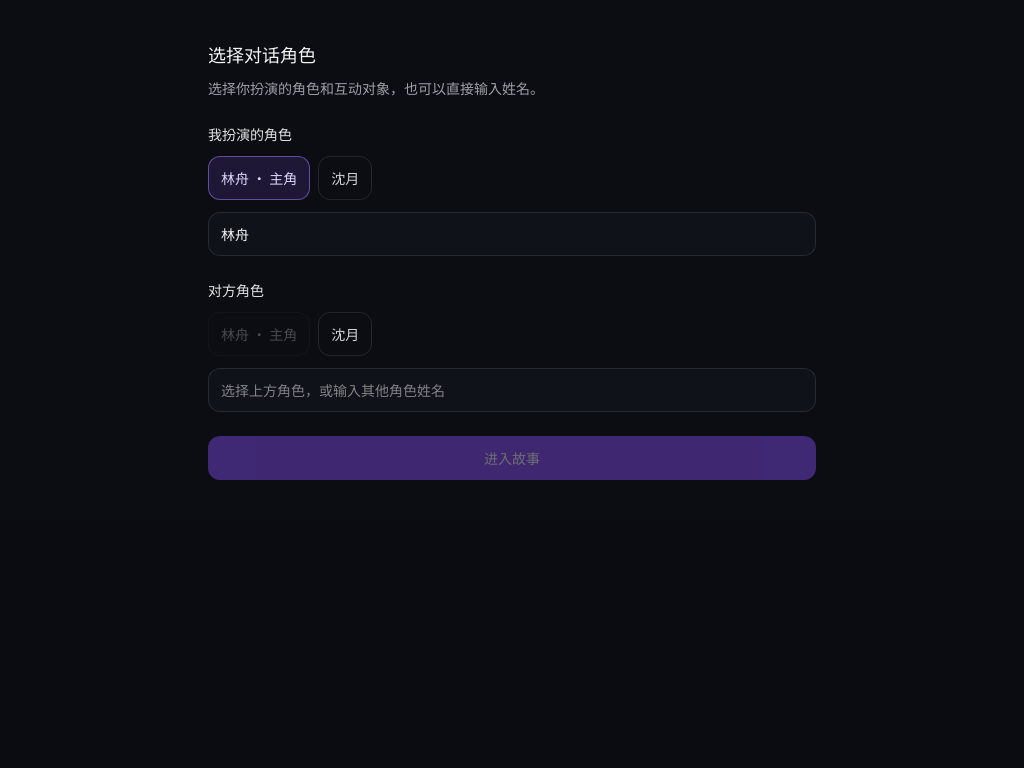
Test case: roleplay script view › offers the protagonist, chapter characters and custom names, and requires two distinct roles
The image size is (1024, 768).
Expected: the element with test id "roleplay-cast-picker" is shown, [176,0,848,520]
Expected: the field named "我扮演的角色" holds "林舟", [208,212,816,256]
Type "林舟" into the field named "对方角色". click: (512,390)
box: [208,368,816,412]
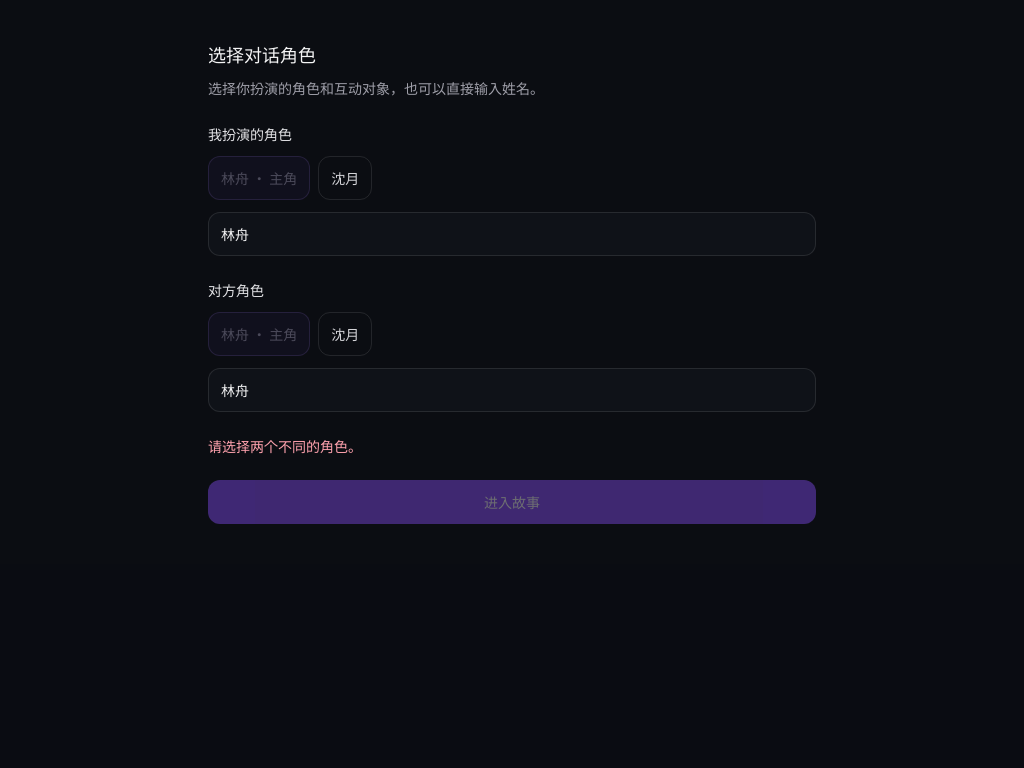
Expected: the message shows "请选择两个不同的角色", [208,436,362,456]
Replace the text in the field named "对方角色" with "自定义角色". click: (512,390)
box: [208,368,816,412]
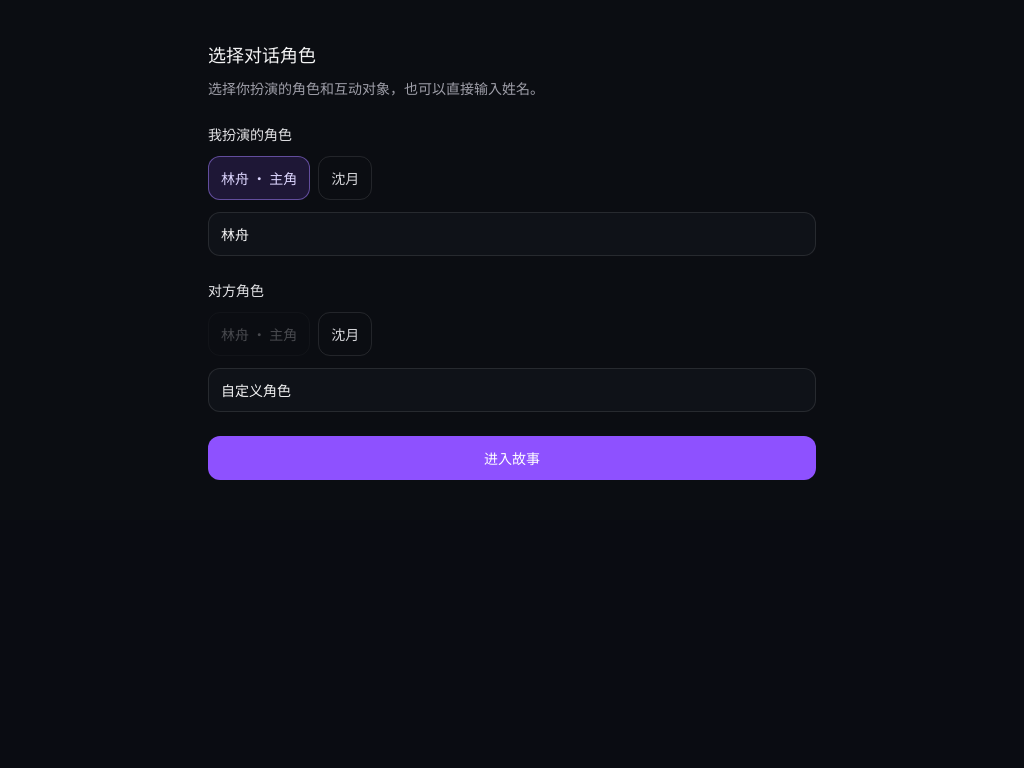
Click the button "进入故事". click: (512,458)
box: [208,436,816,480]
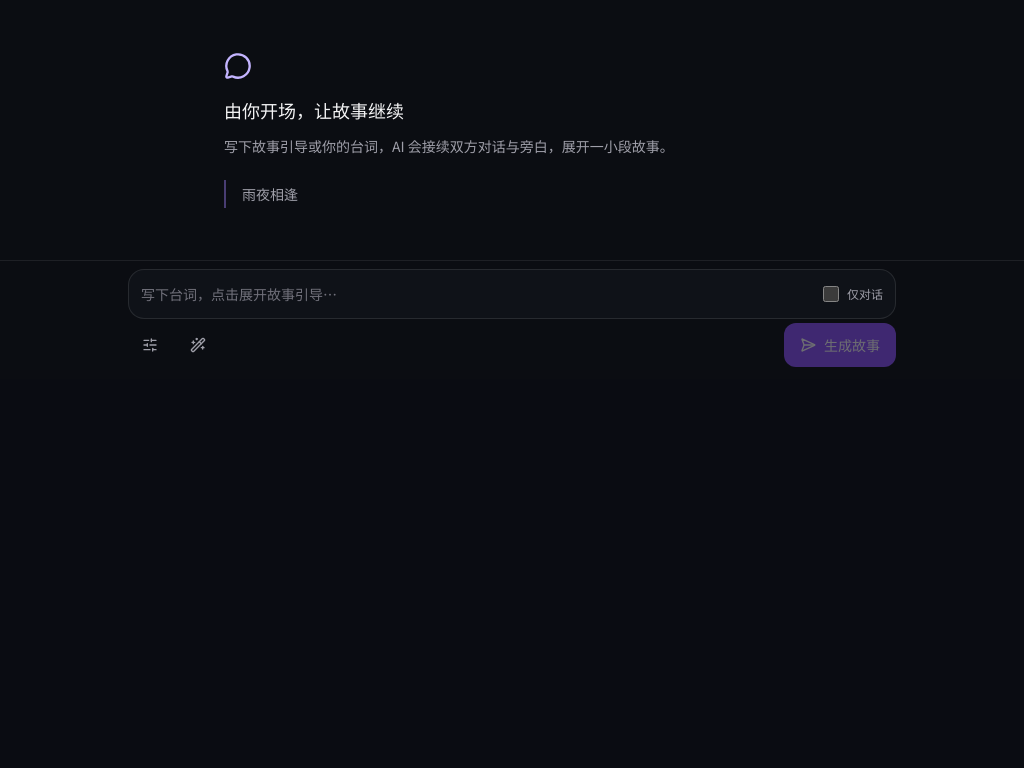
Focus the text box named "我的台词". click: (476,294)
box: [141,282,811,306]
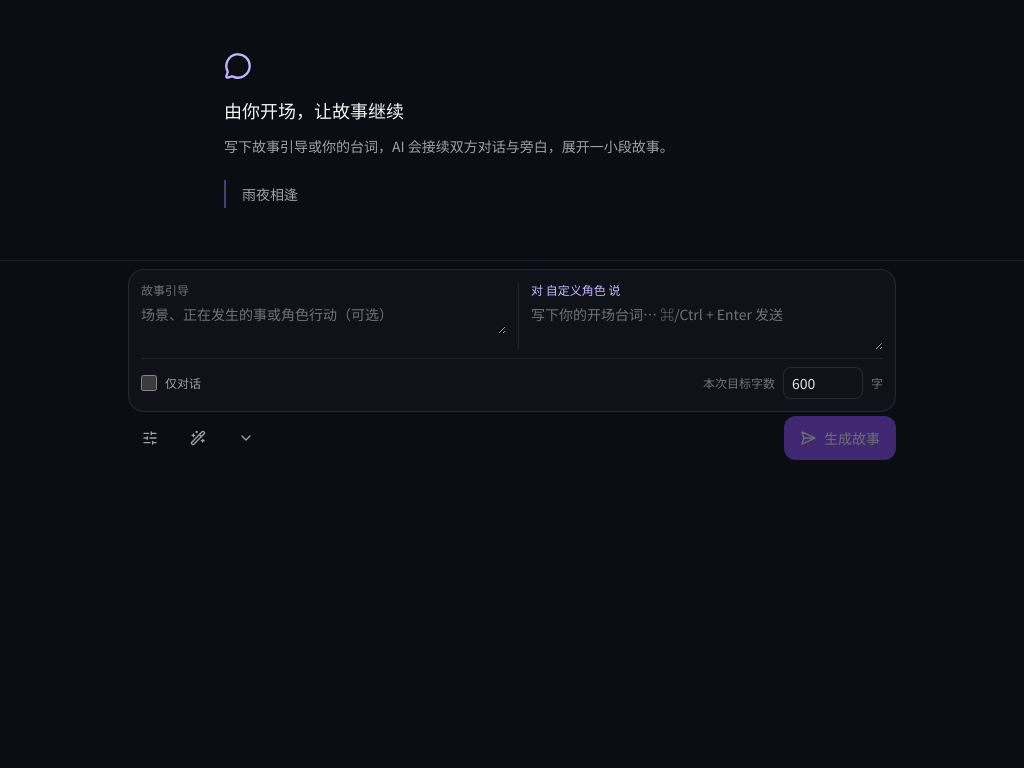
Expected: the text "对 自定义角色 说" is shown, [518,282,883,350]
